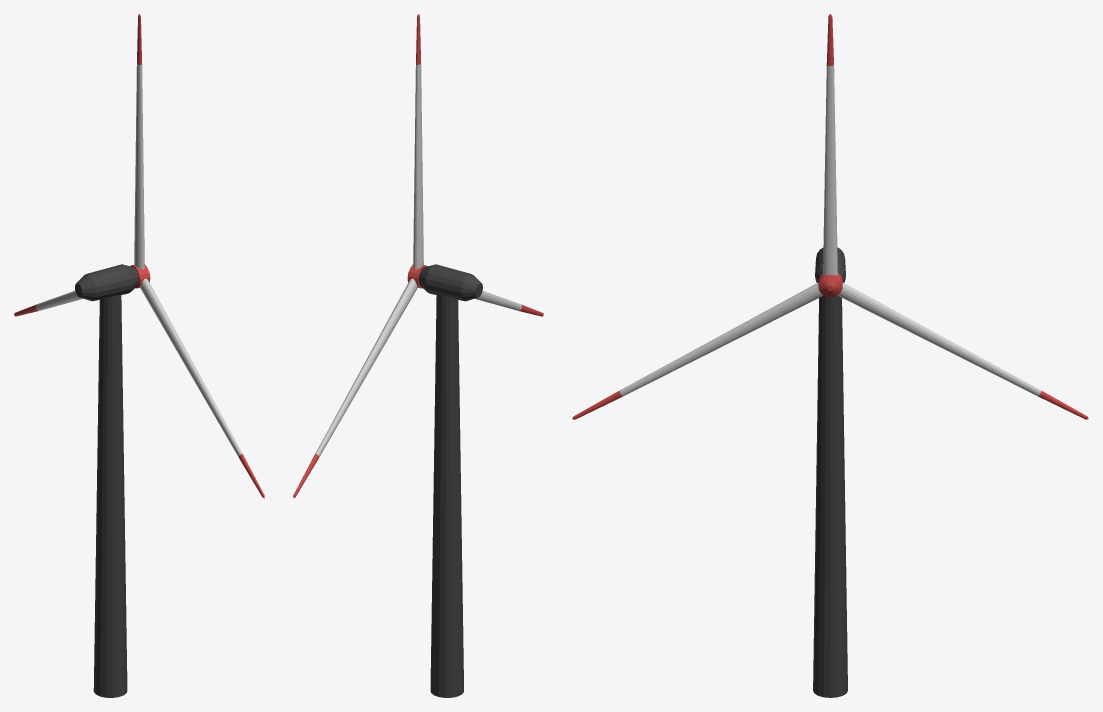
The model's file is WindMill.fbx.
3 renders of one model, left to right at view 1: azimuth 30°, elevation 25°; view 2: azimuth 150°, elevation 25°; view 3: azimuth 270°, elevation 25°, orthographic. The views are drawn at different scales.
Visible parts, largest first — view 1: Pole, PartToRotate; view 2: Pole, PartToRotate; view 3: Pole, PartToRotate.
Part boxes in pixels (x1,y1,x2,y2): Pole: [75, 264, 139, 697]; PartToRotate: [14, 14, 264, 498]; Pole: [418, 264, 482, 697]; PartToRotate: [293, 14, 543, 498]; Pole: [813, 247, 847, 697]; PartToRotate: [572, 14, 1088, 419].
Size of the model in its own units: 175 by 1606 by 1088.
